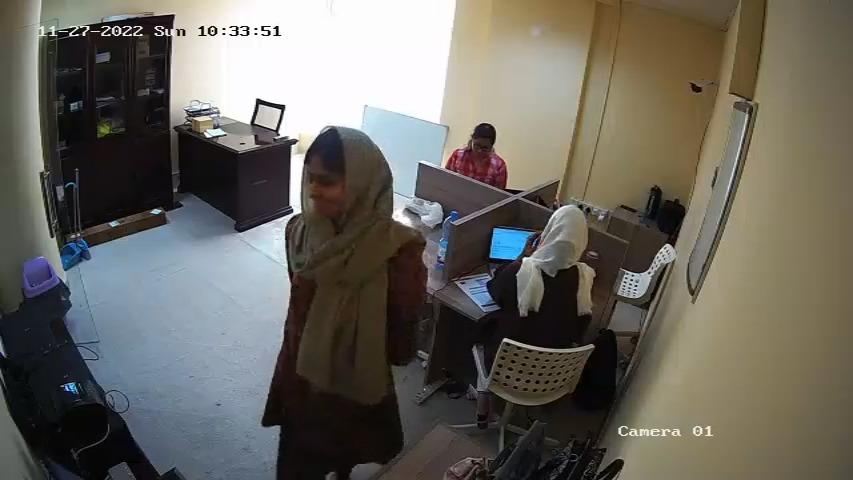no_apron: (282, 227, 387, 429)
